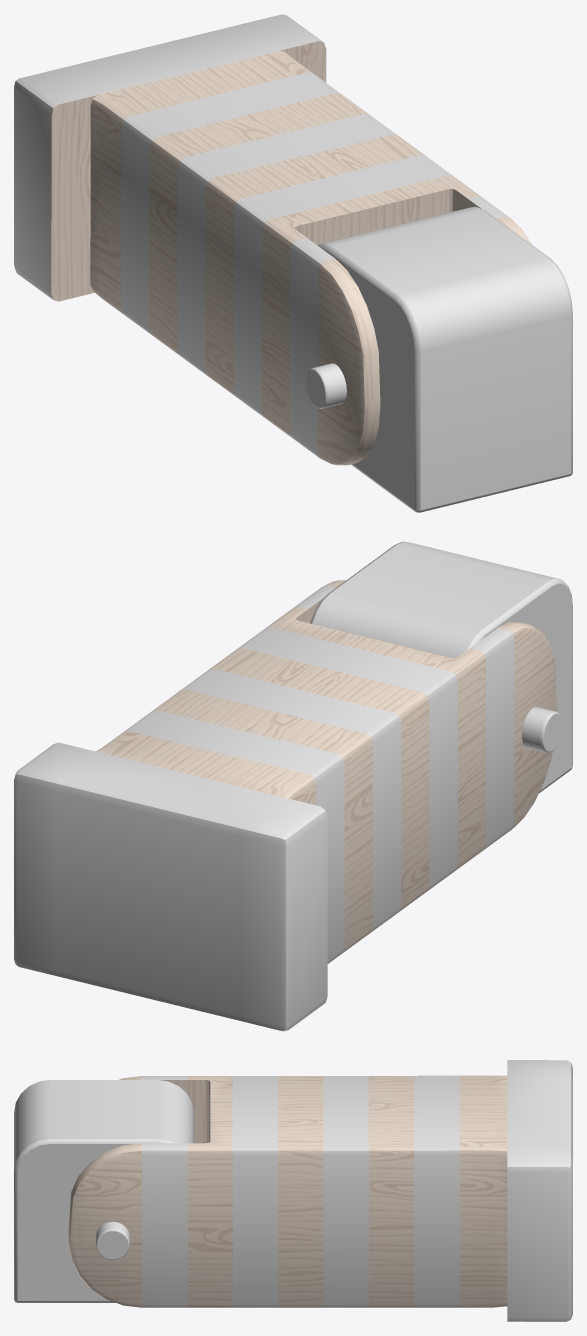
Rendered from new_barrier.fbx.
The picture shows the model from 3 angles, top to bottom: view 1: azimuth 30°, elevation 25°; view 2: azimuth 150°, elevation 25°; view 3: azimuth 270°, elevation 25°; orthographic projection. The views are drawn at different scales.
Visible parts, largest first — view 1: Arm, Gate, Peg; view 2: Arm, Gate, Peg; view 3: Arm, Gate, Peg.
Part boxes in pixels (bbox=[...]): Arm: bbox=[14, 14, 531, 465]; Gate: bbox=[317, 206, 572, 512]; Peg: bbox=[305, 363, 346, 408]; Arm: bbox=[14, 580, 556, 1031]; Gate: bbox=[310, 541, 572, 792]; Peg: bbox=[522, 707, 563, 752]; Arm: bbox=[68, 1060, 572, 1321]; Gate: bbox=[14, 1080, 193, 1302]; Peg: bbox=[96, 1221, 129, 1259].
Size of the model in its own units: 141 by 99.41 by 308.
